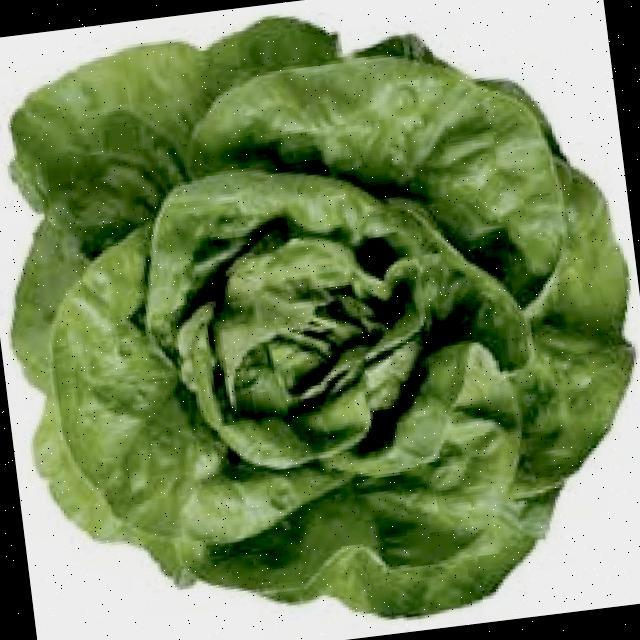Healthy: (27, 68, 591, 571)
